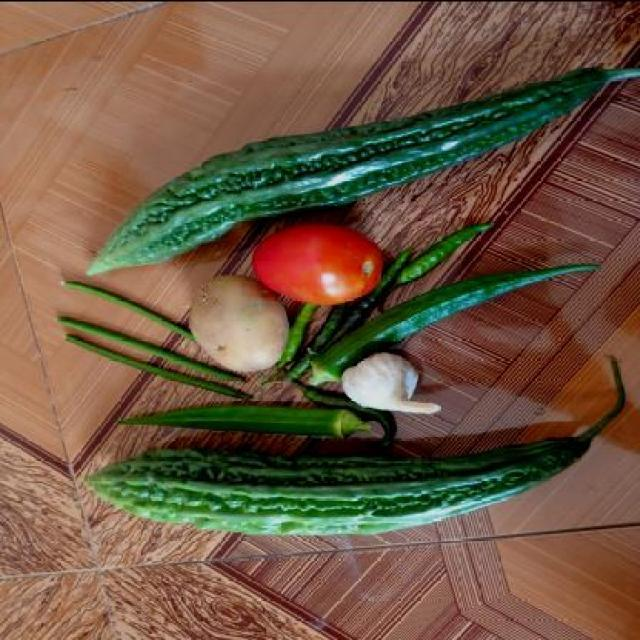Bitter melon: (144, 68, 604, 210), (91, 442, 611, 538)
Garlic: (338, 344, 438, 418)
Lady finger: (122, 408, 370, 432)
Potato: (188, 272, 290, 372)
Tomato: (254, 224, 386, 304)
